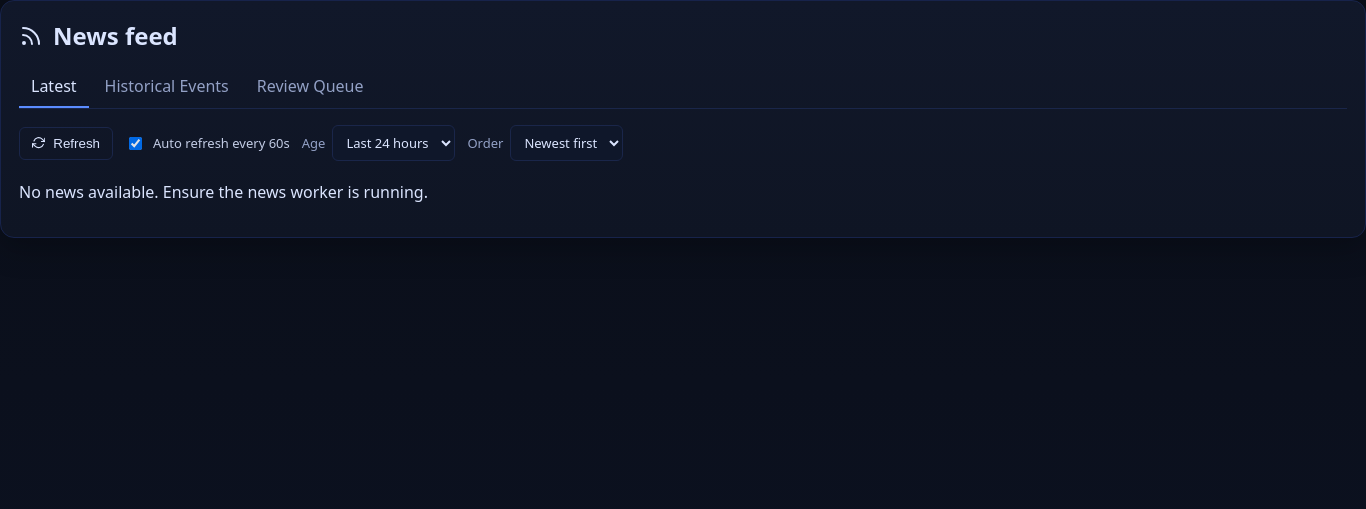
Scenario: NewsFeed › shows and resolves a bounded news quality exception
Expected: the text "No news available. Ensure the news worker is running." is shown, [19,181,428,203]
Click the tab "Review Queue".
click(310, 87)  # box [245,66,376,108]
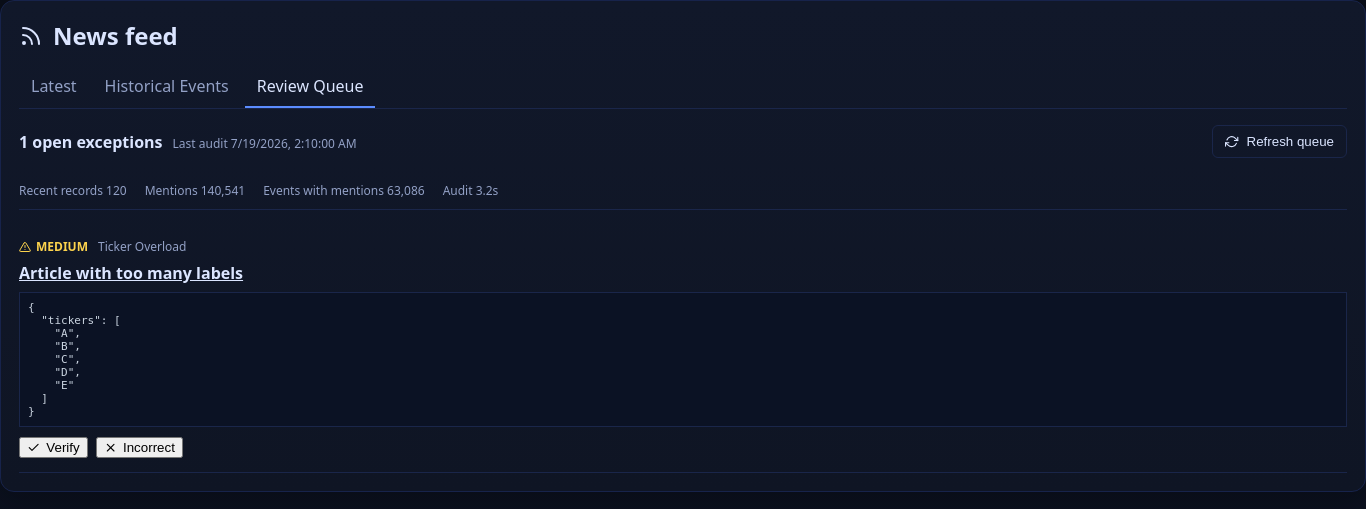
Expected: the link "Article with too many labels" is shown, [19,262,243,284]
Click the button "Verify".
click(53, 448)  # box [19,437,88,458]
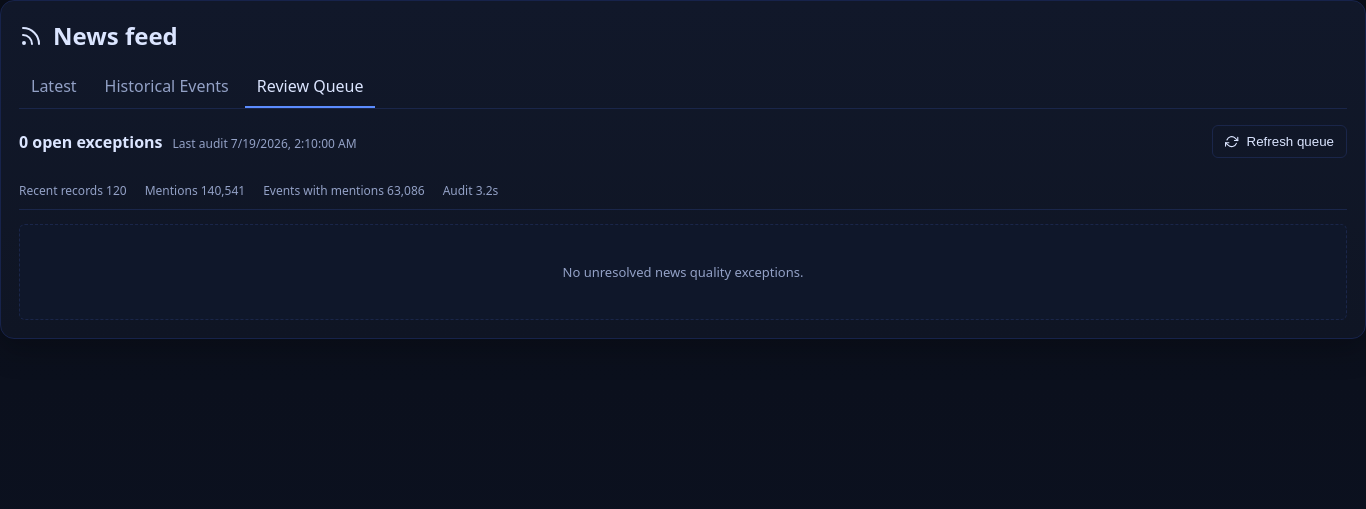
Expected: the text "No unresolved news quality exceptions." is shown, [19,224,1347,320]
